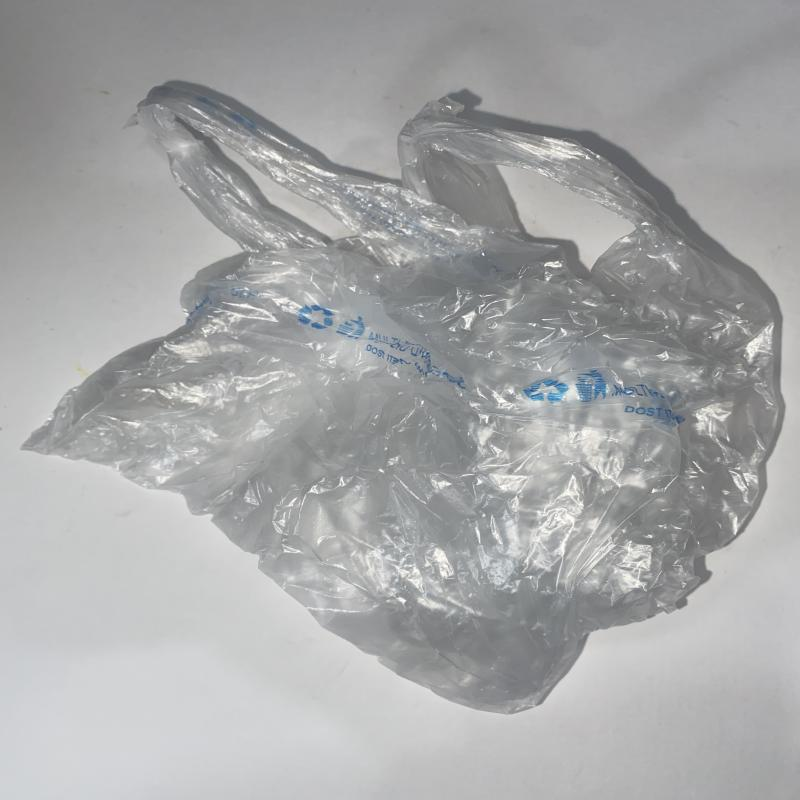plastic bag: (23, 80, 788, 720)
